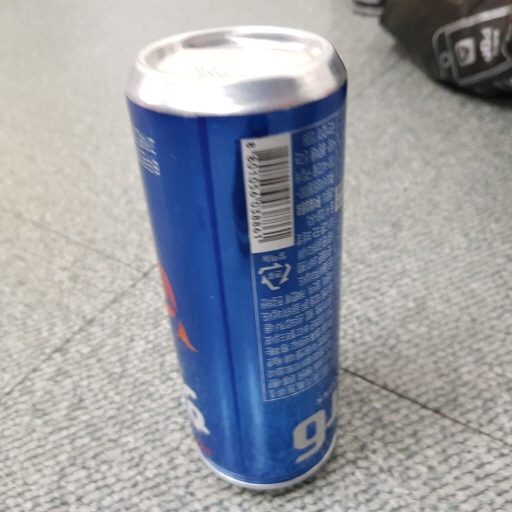Metal_0: (123, 24, 350, 490)
